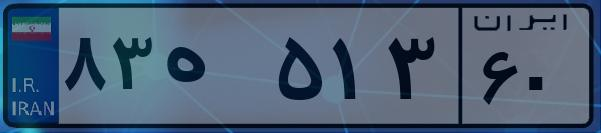0: (525, 38, 570, 115)
1: (330, 28, 385, 110)
3: (385, 28, 445, 110), (110, 28, 158, 98)
5: (270, 28, 330, 110)
6: (475, 38, 525, 113)
8: (57, 26, 110, 100)
ه: (158, 20, 270, 120)
